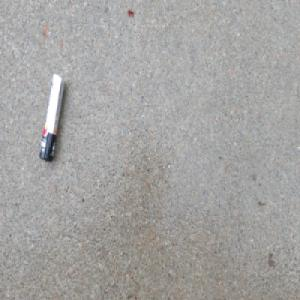Battery: (40, 72, 68, 164)
